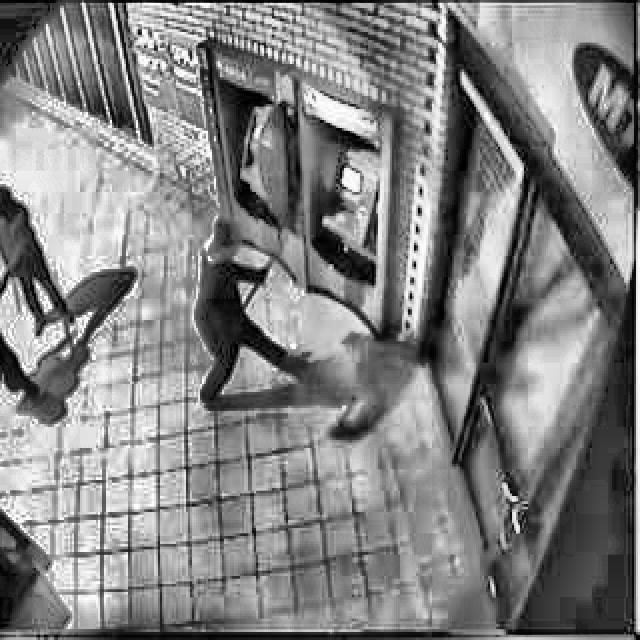burglary: (188, 76, 390, 412)
